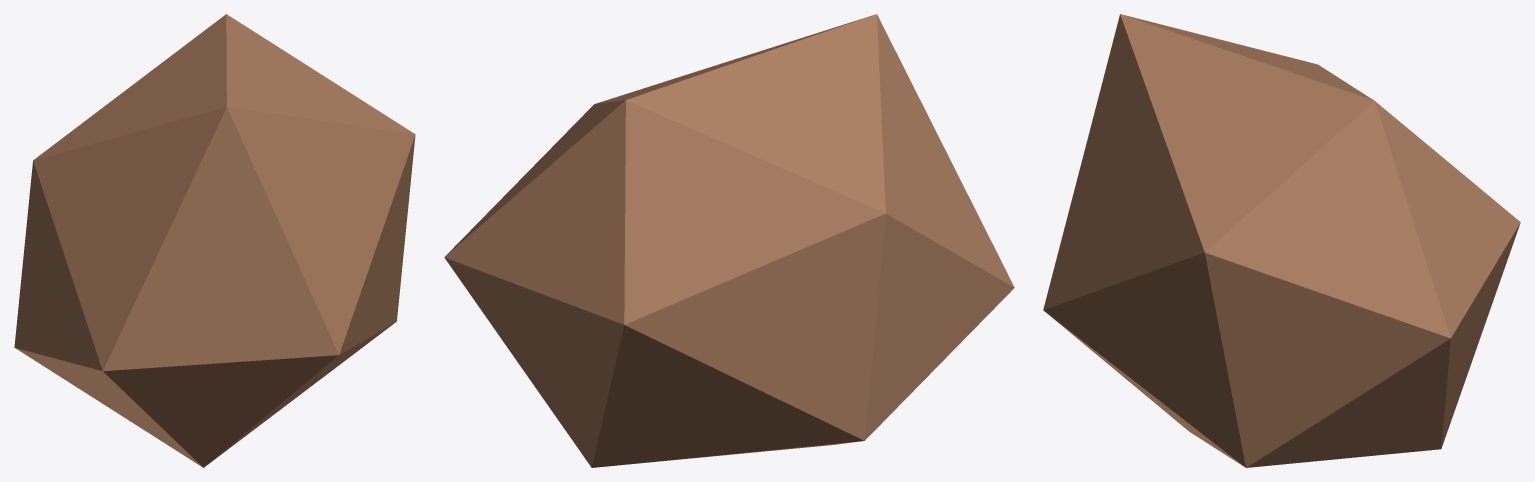
The model's file is rock5.gltf.
3 views of the same model, side by side, from view 1: azimuth 30°, elevation 25°; view 2: azimuth 150°, elevation 25°; view 3: azimuth 270°, elevation 25° (orthographic). The views are drawn at different scales.
Visible parts, largest first — view 1: stone 20_19; view 2: stone 20_19; view 3: stone 20_19.
Boxes of the visible parts, x1=… form: stone 20_19: x1=14, y1=14, x2=415, y2=467; stone 20_19: x1=444, y1=14, x2=1014, y2=467; stone 20_19: x1=1043, y1=14, x2=1520, y2=467.
Bounding box in the file's own units: 0.6807 × 0.6579 × 0.6895.
